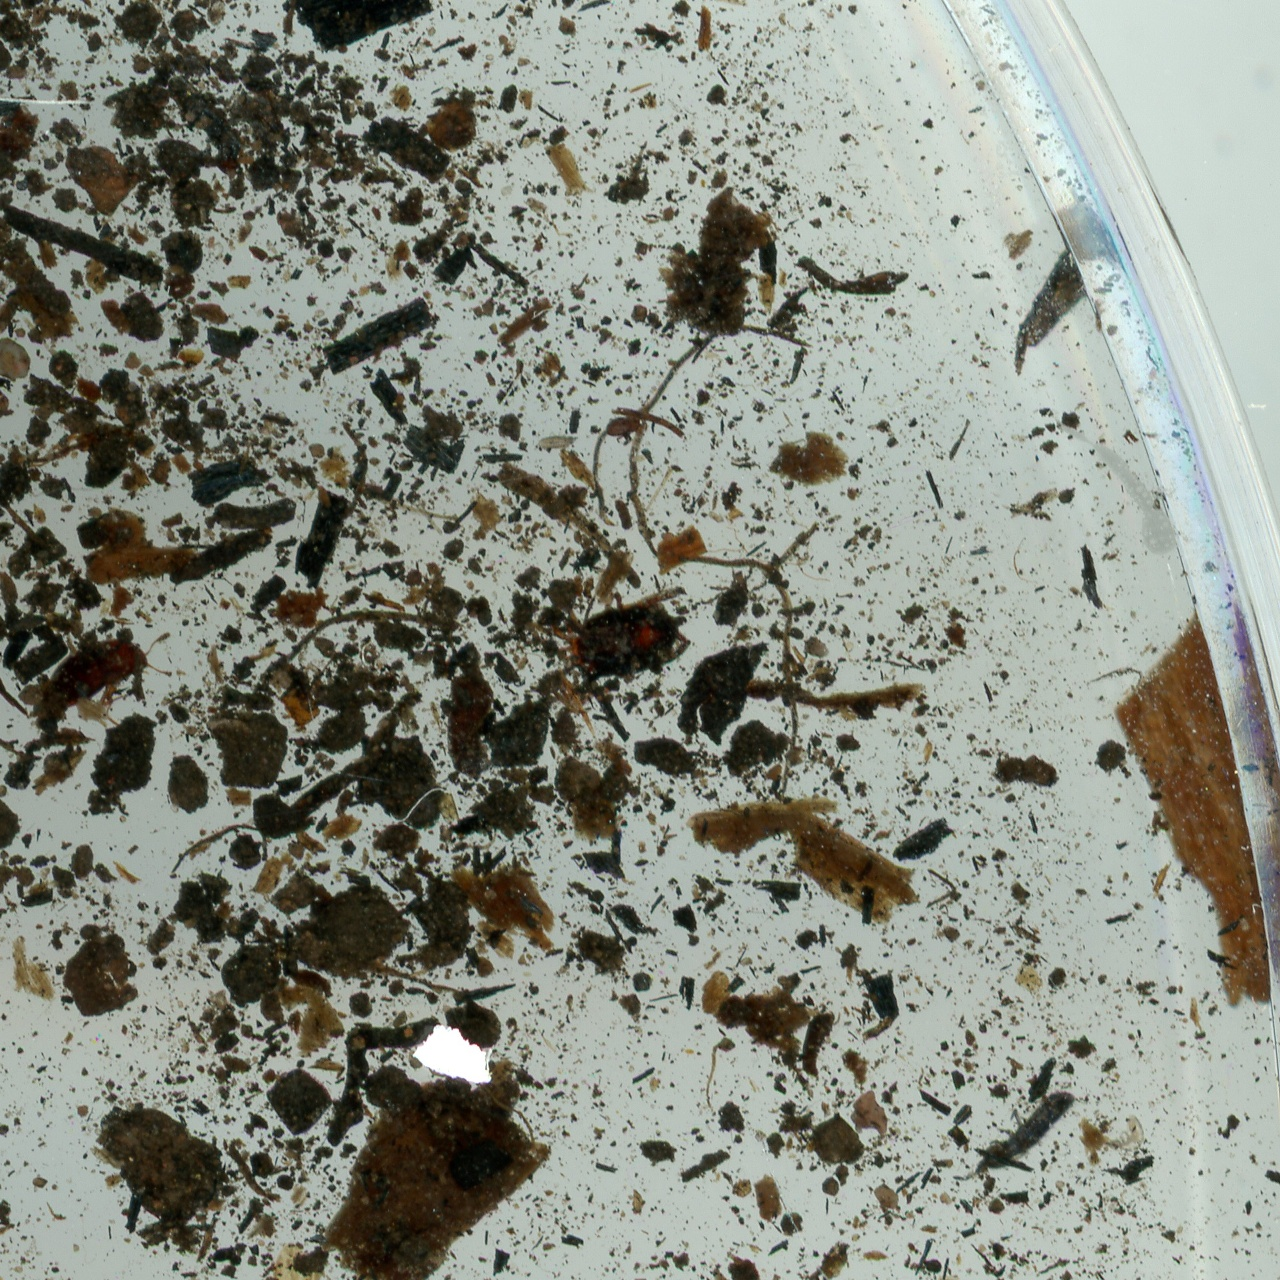arthropod: (474, 547, 696, 753), (933, 1071, 1090, 1198), (19, 627, 179, 736), (1102, 1111, 1148, 1155)
